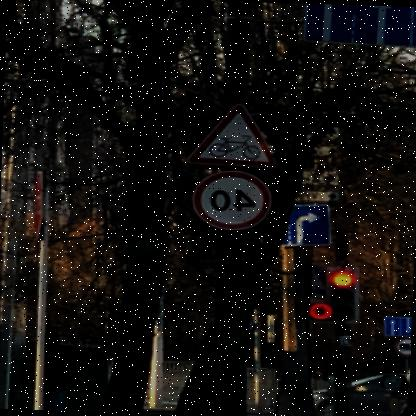speedlimit: (196, 170, 276, 232)
trafficlight: (313, 266, 360, 320)
